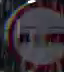No overtake: (4, 0, 62, 71)
